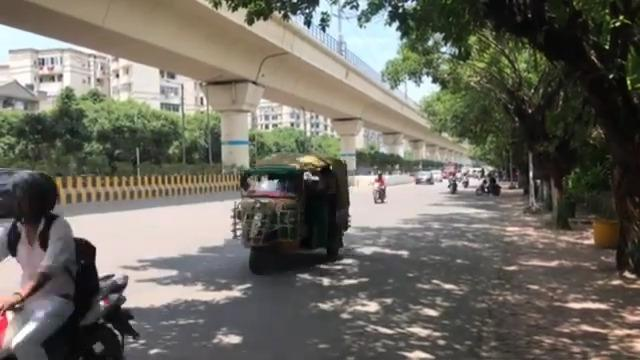Auto: (229, 151, 351, 273)
Bike: (0, 166, 139, 359), (475, 171, 501, 196), (371, 170, 387, 203), (447, 172, 458, 193)
